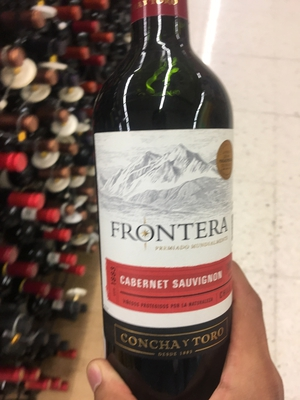frontera cabernet sauvignon: (88, 16, 248, 400)
